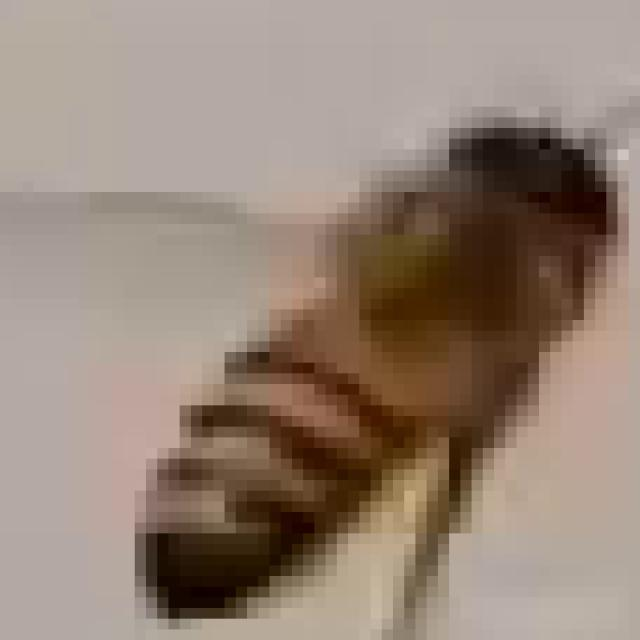honeybee: (131, 54, 622, 638)
